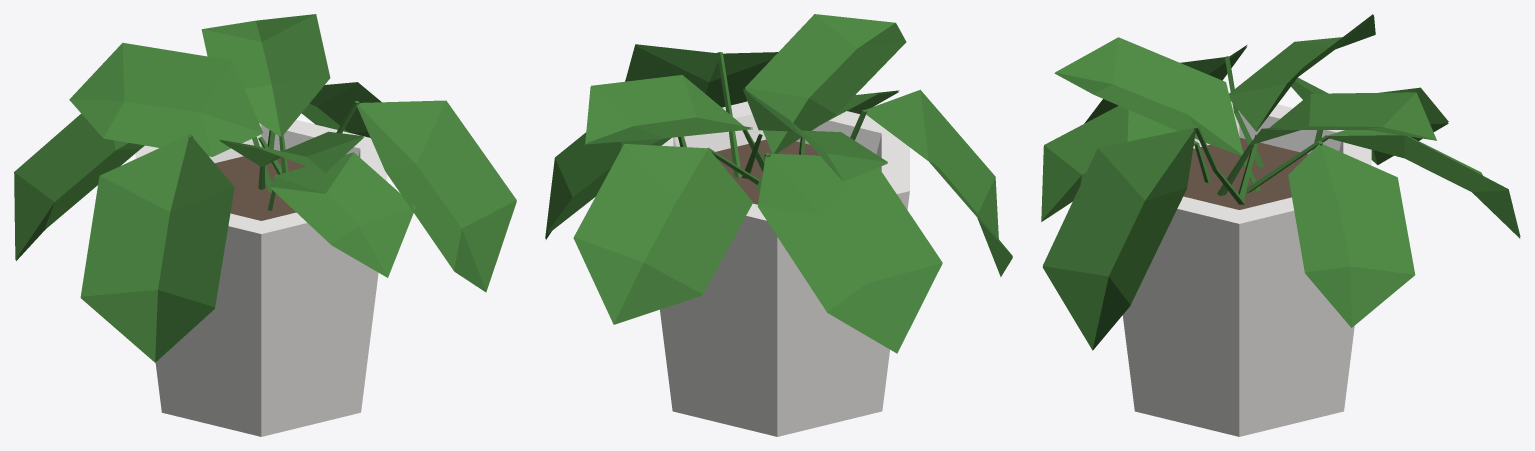
File: Flower_28.fbx
The picture shows the model from 3 angles, left to right: view 1: azimuth 30°, elevation 25°; view 2: azimuth 150°, elevation 25°; view 3: azimuth 270°, elevation 25°; orthographic projection. The views are drawn at different scales.
Parts seen in each view (by area): view 1: Flower_28; view 2: Flower_28; view 3: Flower_28.
Part boxes in pixels (x1,y1,x2,y2): Flower_28: (14,14,516,436); Flower_28: (545,14,1012,436); Flower_28: (1041,14,1520,436).
Bounding box in the file's own units: 60.54 × 59 × 45.27.
